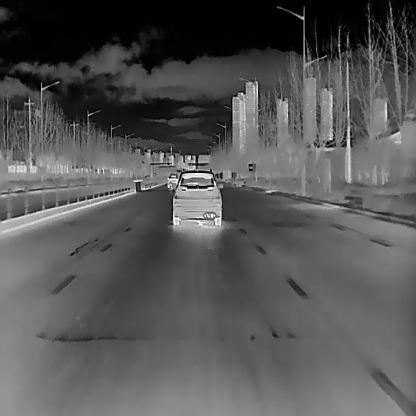car: (172, 169, 223, 224), (166, 173, 178, 189)
